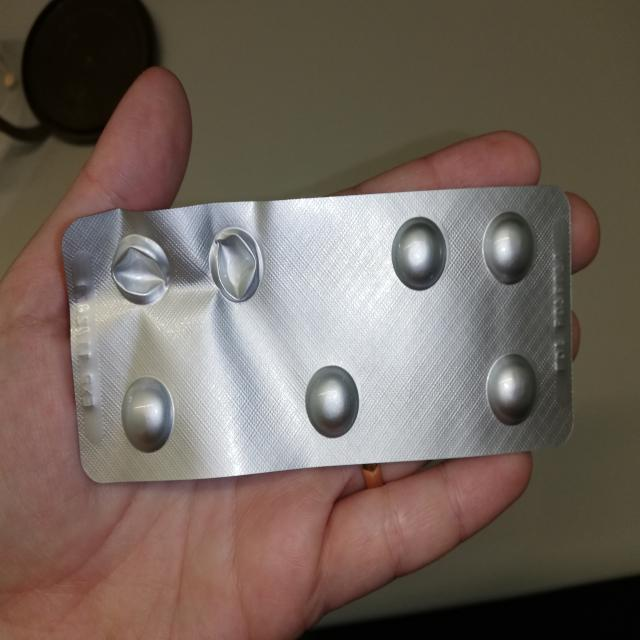Empty: (106, 230, 172, 308), (204, 224, 264, 305)
Pill: (482, 348, 541, 430), (387, 213, 448, 292), (480, 208, 539, 288), (300, 362, 361, 439), (118, 375, 176, 455)
